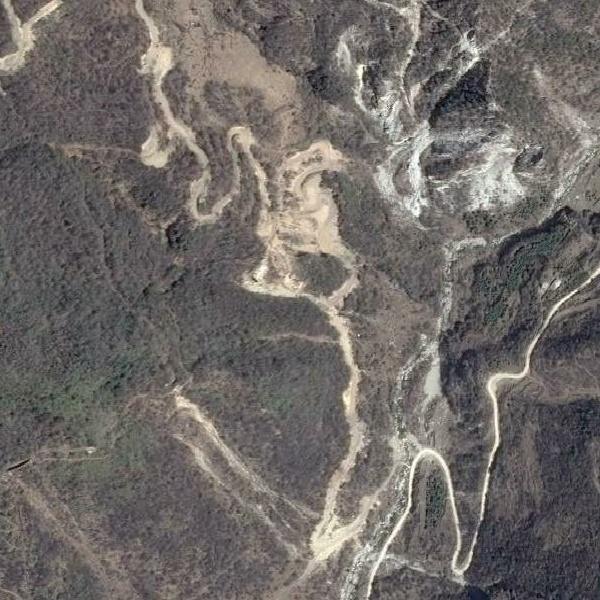slope: (373, 122, 534, 222), (172, 393, 271, 510), (256, 169, 361, 267), (242, 249, 313, 297), (139, 122, 174, 168), (137, 44, 174, 81)
